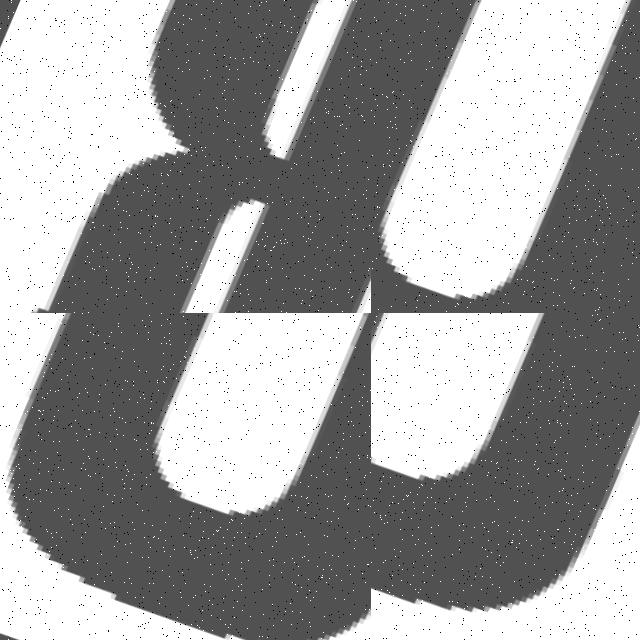R: (0, 0, 371, 313)
U: (0, 313, 371, 640), (371, 313, 640, 640), (371, 0, 640, 313)
